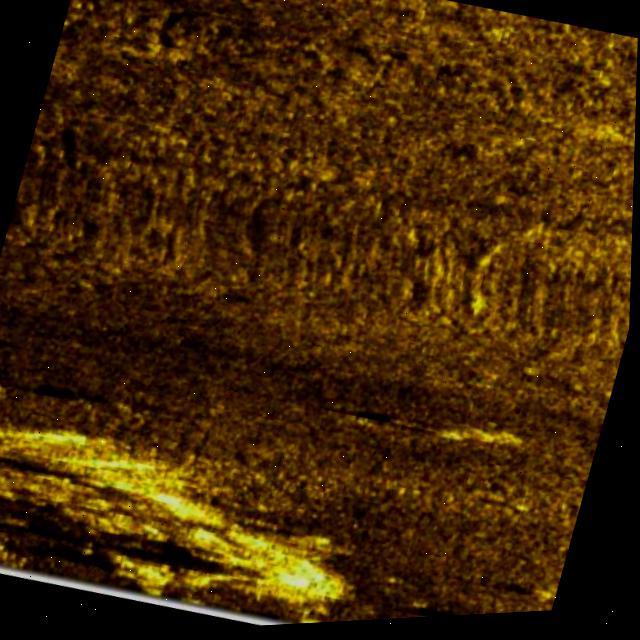bedrock group: (0, 362, 388, 640)
